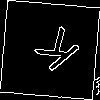K: (25, 25, 82, 80)
